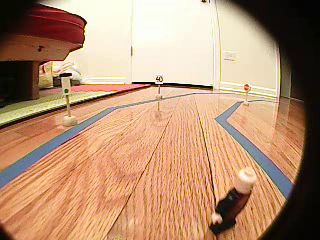Green Traffic Light: (59, 72, 74, 95)
Person: (208, 166, 257, 236)
Speed Limit 40: (155, 75, 164, 85)
Stop Sign: (243, 82, 250, 92)
